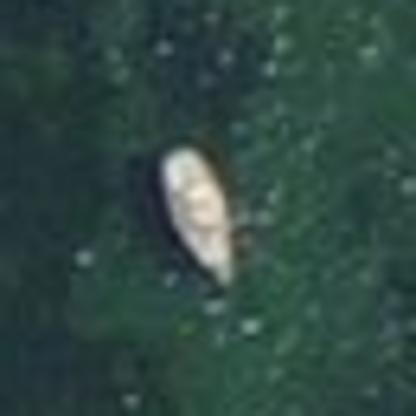ship: (143, 135, 260, 294)
